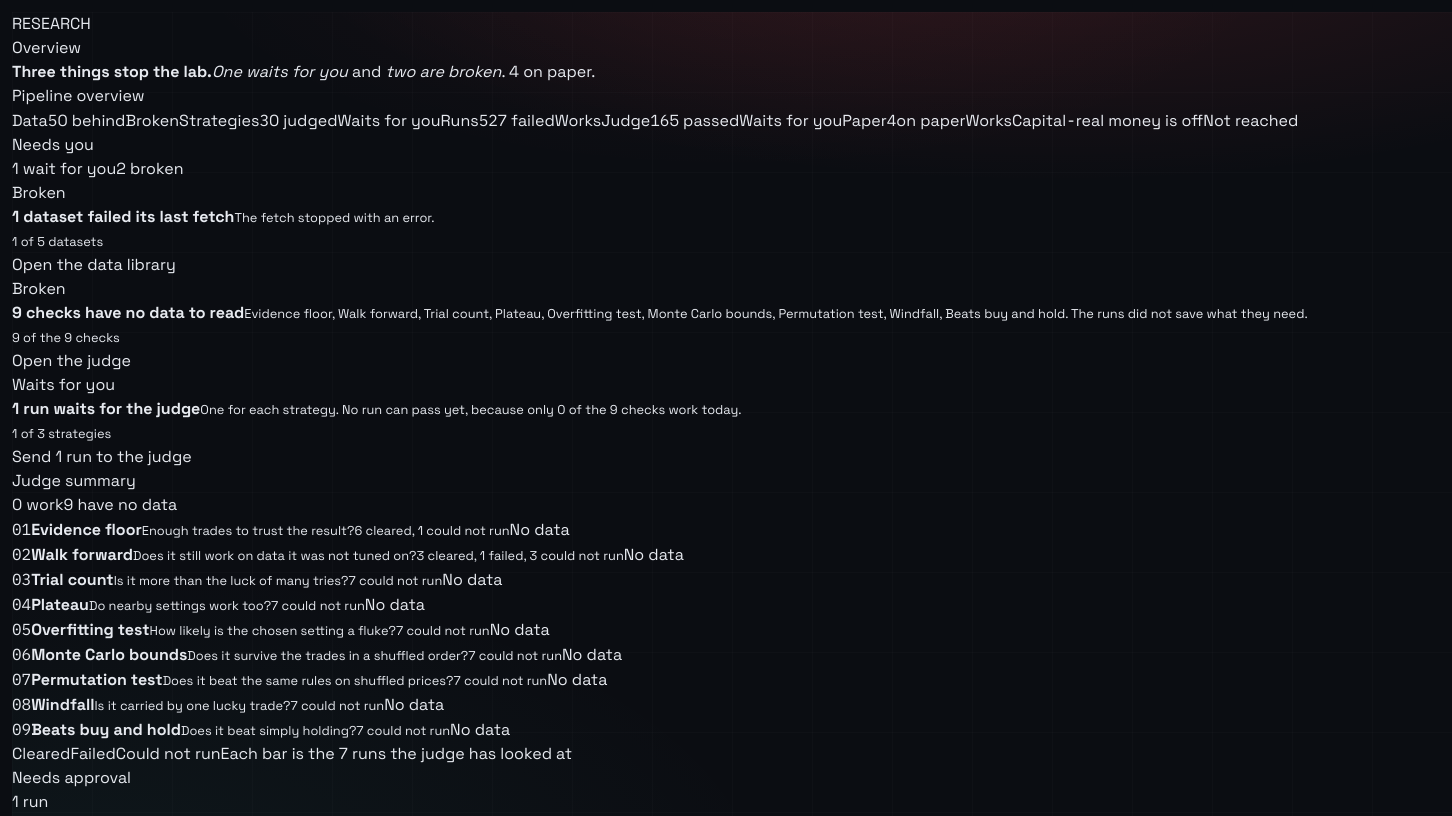
Test: Research overview, new look › (h) a refused send shows the server's words and keeps the button
The width and height of the screenshot is (1452, 816).
Later steps or results of the test are not shown.
Expected: the element that starts with "Waits for you" is shown, left=12, top=374, right=742, bottom=469
Click the button "Send 1 run to the judge" at [102, 457], box left=12, top=445, right=192, bottom=469
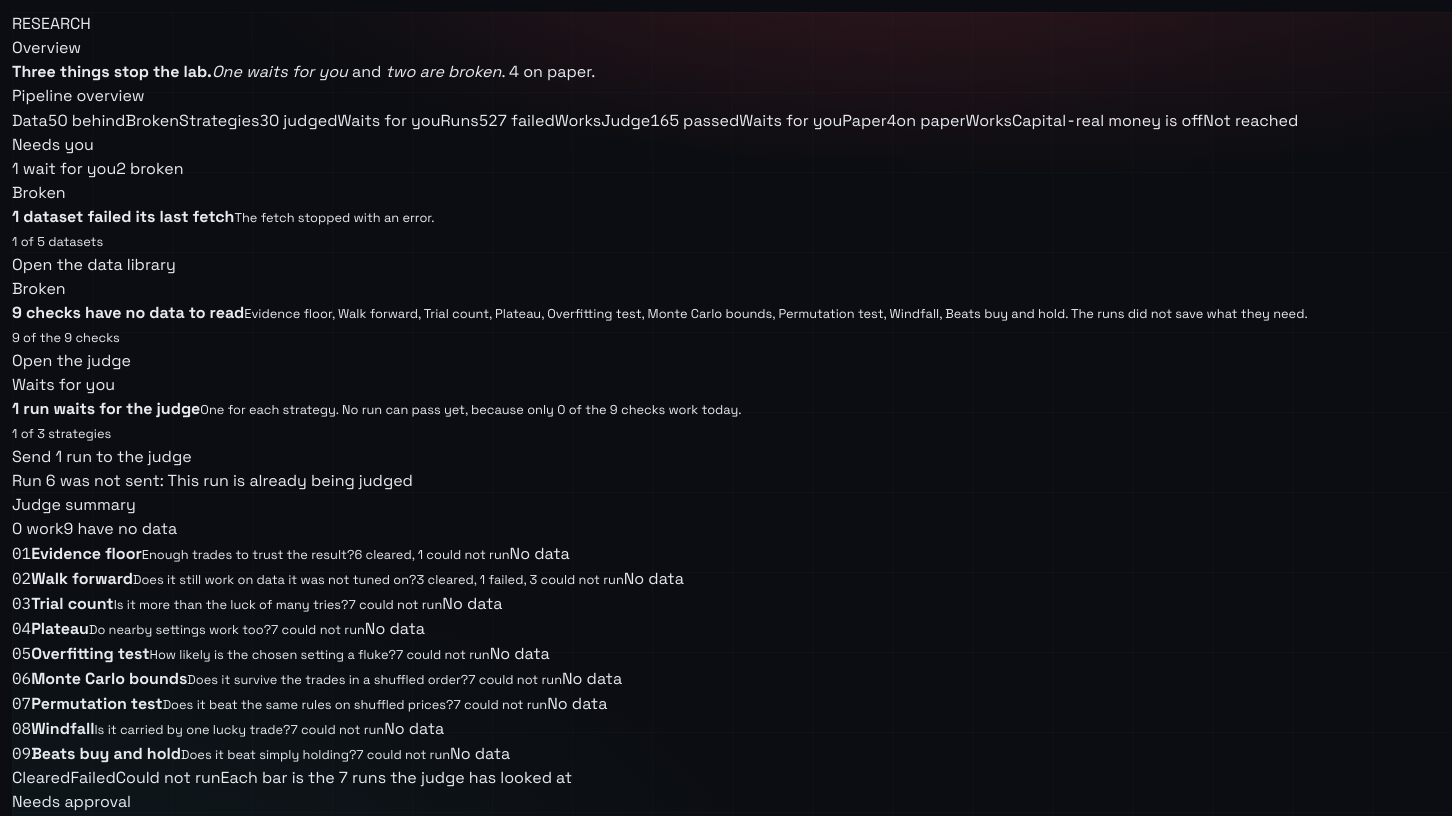
Now the message reads "Run 6 was not sent: This run is already being judged", box left=12, top=470, right=413, bottom=491
